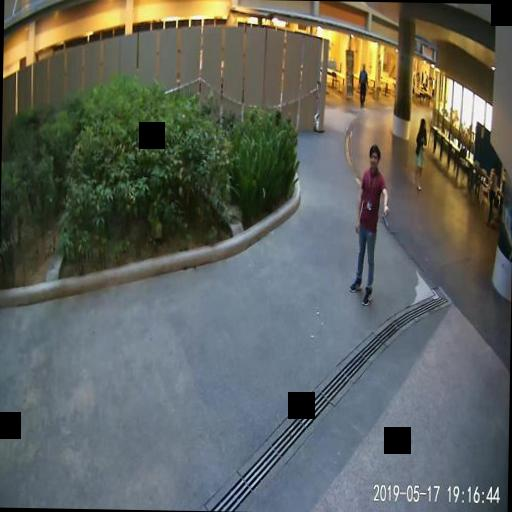Handgun: (380, 207, 388, 227)
